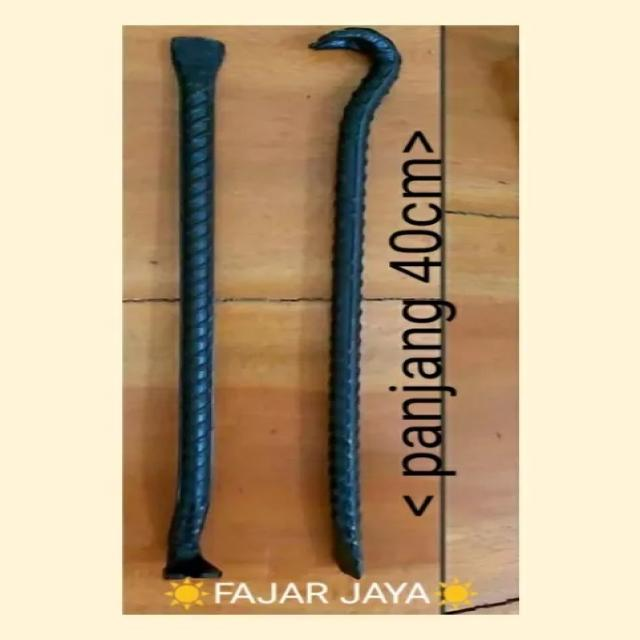Linggis: (170, 36, 238, 578)
